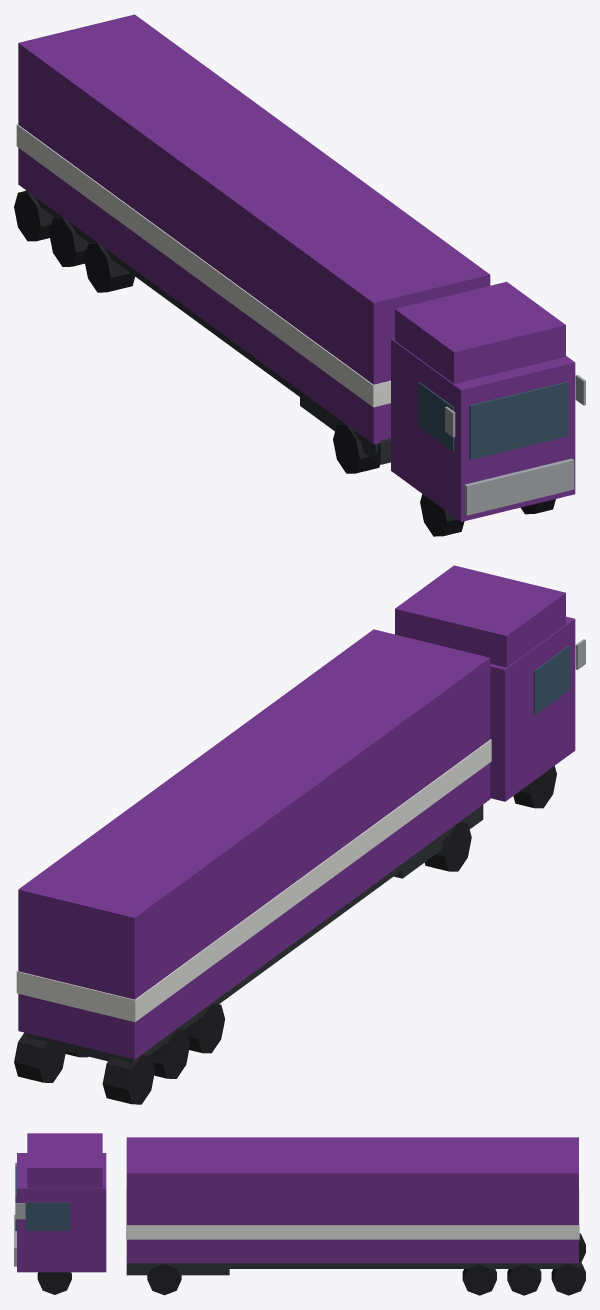
File: caminhao_4.glb
The picture shows the model from 3 angles, top to bottom: view 1: azimuth 30°, elevation 25°; view 2: azimuth 150°, elevation 25°; view 3: azimuth 270°, elevation 25°; orthographic projection. The views are drawn at different scales.
Visible parts, largest first — view 1: cor, br, pre, vi, aco, esc; view 2: cor, br, pre, esc, vi; view 3: cor, br, pre, esc, vi, aco.
Part boxes in pixels (box(x1,y1,x2,y2)): cor: box(18, 14, 575, 521); br: box(16, 124, 390, 407); pre: box(14, 191, 555, 536); vi: box(418, 381, 568, 459); aco: box(445, 375, 585, 515); esc: box(25, 190, 390, 464); cor: box(18, 565, 575, 1059); br: box(16, 739, 491, 1021); pre: box(14, 766, 556, 1104); esc: box(25, 805, 483, 1062); vi: box(533, 645, 569, 715); cor: box(17, 1133, 578, 1272); br: box(126, 1189, 579, 1239); pre: box(37, 1233, 585, 1295); esc: box(126, 1263, 575, 1275); vi: box(15, 1166, 70, 1230); aco: box(14, 1162, 25, 1266).
Bounding box in the file's own units: 2.85 × 4.1 × 16.69.
